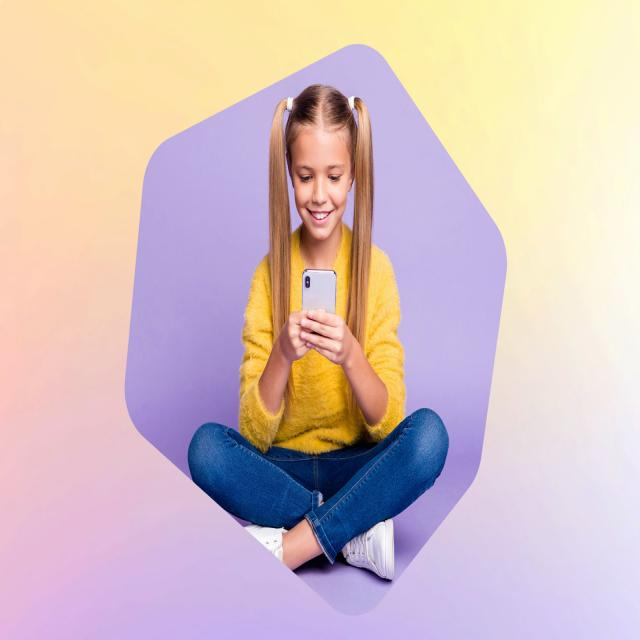child: (189, 84, 452, 580)
